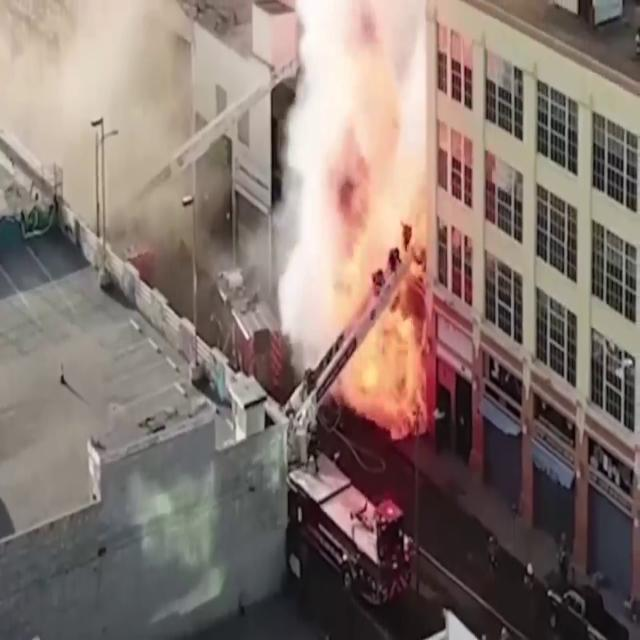Smoke: (268, 1, 440, 454), (0, 0, 209, 265)
